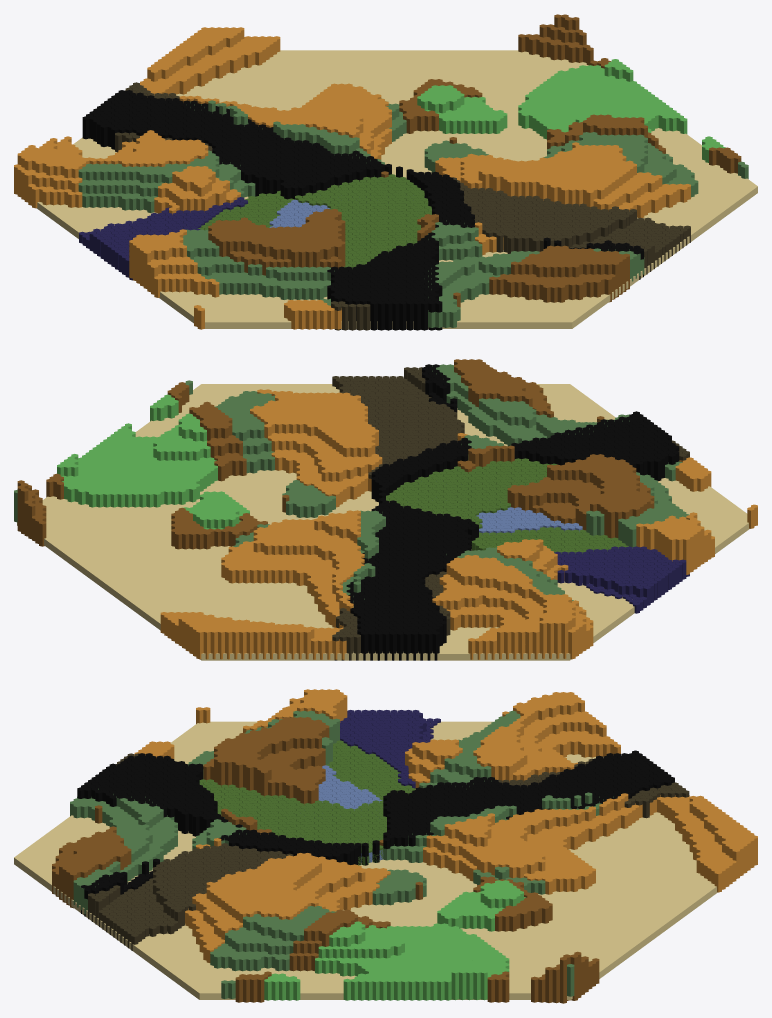
The model's file is 0043_tile_1101221.fbx.
The picture shows the model from 3 angles, top to bottom: view 1: azimuth 30°, elevation 25°; view 2: azimuth 150°, elevation 25°; view 3: azimuth 270°, elevation 25°; orthographic projection.
Parts seen in each view (by area): view 1: Plane; view 2: Plane; view 3: Plane.
Part boxes in pixels (x1,y1,x2,y2): Plane: (14,14,757,330); Plane: (14,359,757,660); Plane: (14,689,757,1003).
Size of the model in its own units: 1008 by 73.82 by 1152.
